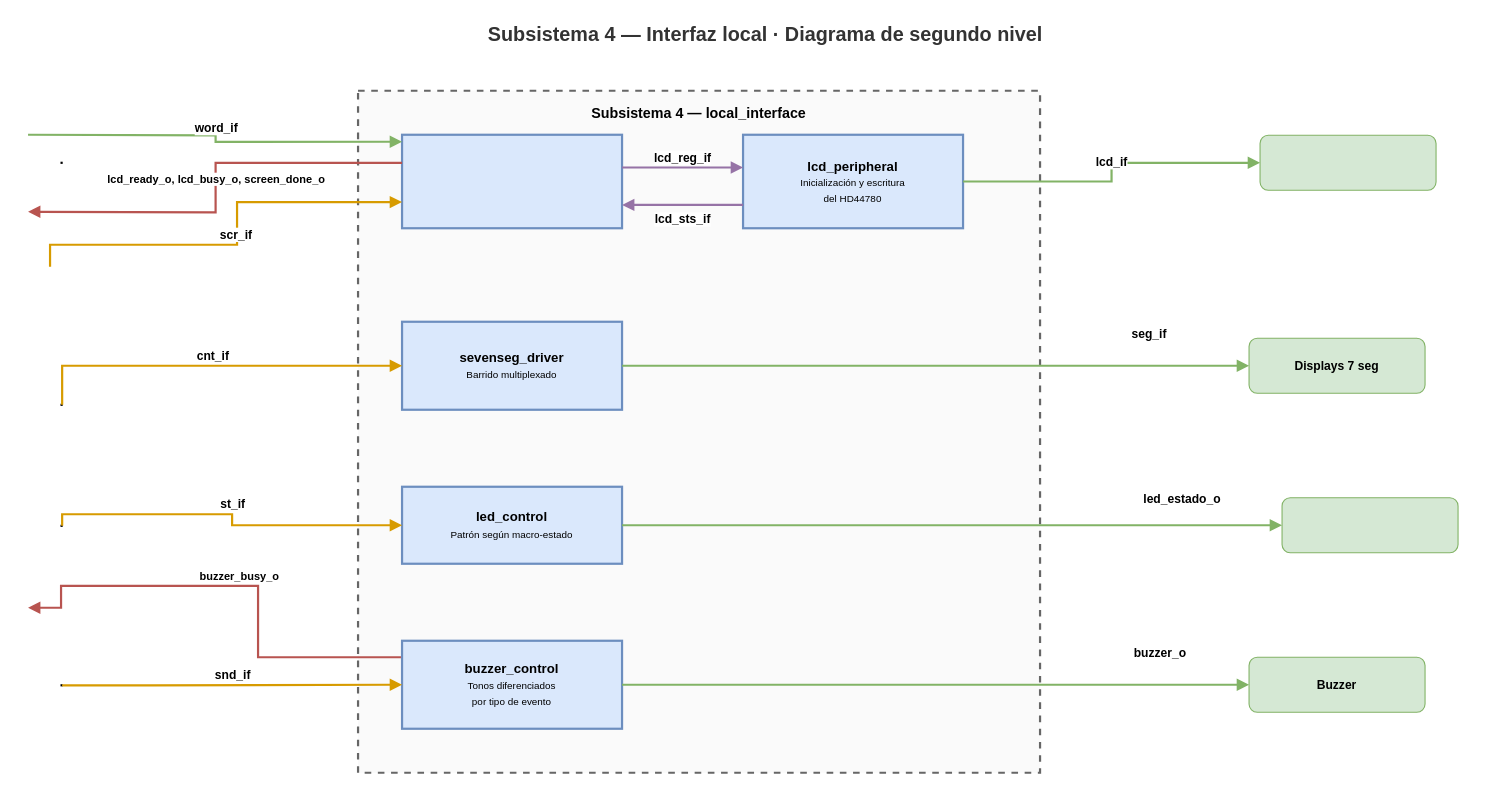
Image size: 1509x792. Some labels were removed from this diagram. Here are the shapes that lost their labels. From the top down, the centre of each, then its label:
At pixel 511 181: "screen_manager Compone el contenido de cada pantalla".
At pixel 1347 162: "LCD 16x2".
At pixel 1369 525: "LED de estado".
